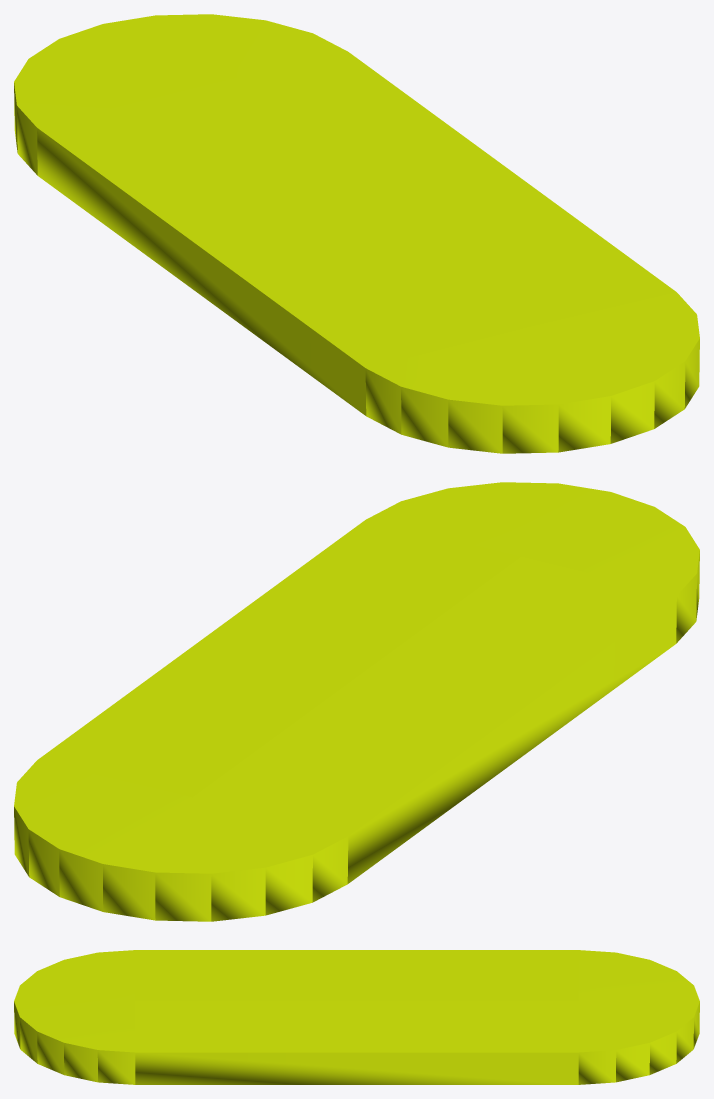
File: Blocker_Board_Medium.fbx
3 renders of one model, top to bottom at view 1: azimuth 30°, elevation 25°; view 2: azimuth 150°, elevation 25°; view 3: azimuth 270°, elevation 25°, orthographic. The views are drawn at different scales.
Parts seen in each view (by area): view 1: Blocker_Board_Medium; view 2: Blocker_Board_Medium; view 3: Blocker_Board_Medium.
Boxes of the visible parts, x1=… form: Blocker_Board_Medium: x1=14, y1=14, x2=699, y2=453; Blocker_Board_Medium: x1=14, y1=482, x2=699, y2=921; Blocker_Board_Medium: x1=14, y1=950, x2=699, y2=1084.
Bounding box in the file's own units: 2.2 × 0.3402 × 6.22.
